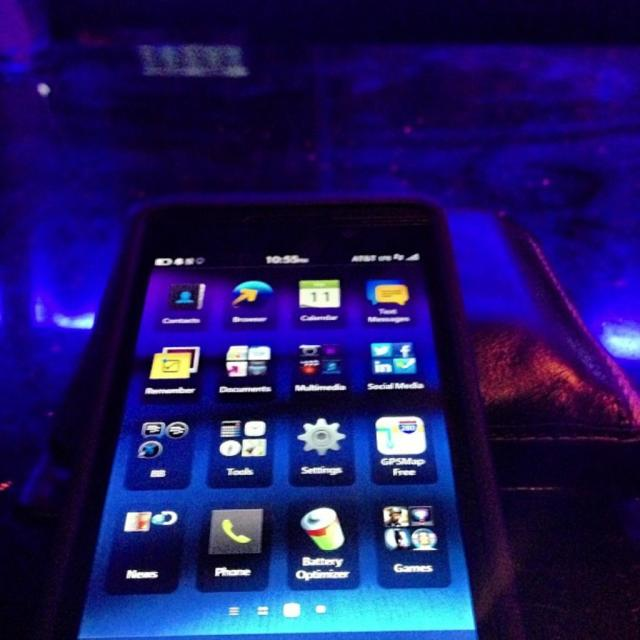Mobile-phone: (59, 195, 500, 628)
